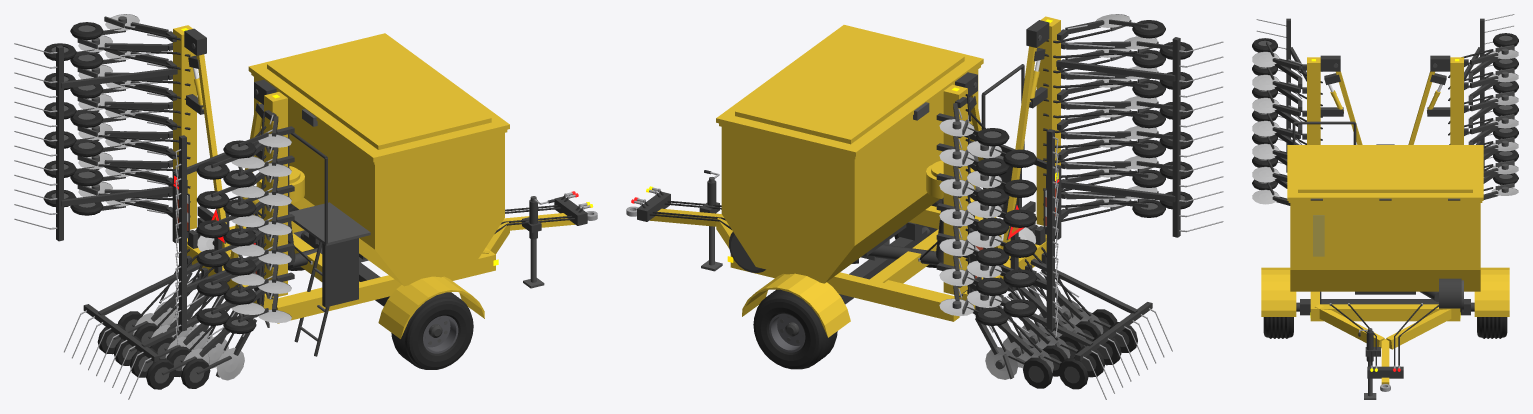
The model's file is seed_drill.glb.
The picture shows the model from 3 angles, left to right: view 1: azimuth 30°, elevation 25°; view 2: azimuth 150°, elevation 25°; view 3: azimuth 270°, elevation 25°; orthographic projection. The views are drawn at different scales.
Parts seen in each view (by area): view 1: frame, wing_left_tilt, wing_right_tilt, hopper_lid_tilt, wheel_right_spin, marker_left_tilt, marker_right_tilt; view 2: frame, wing_right_tilt, wing_left_tilt, hopper_lid_tilt, wheel_left_spin, marker_right_tilt, marker_left_tilt; view 3: frame, hopper_lid_tilt, wing_left_tilt, wing_right_tilt, wheel_right_spin, wheel_left_spin, marker_left_tilt, marker_right_tilt.
Boxes of the visible parts, x1,y1,x2,y2 form: frame: [64, 73, 597, 399]; wing_left_tilt: [14, 14, 213, 241]; wing_right_tilt: [175, 79, 294, 345]; hopper_lid_tilt: [248, 33, 509, 162]; wheel_right_spin: [391, 292, 473, 369]; marker_left_tilt: [188, 43, 230, 257]; marker_right_tilt: [197, 89, 263, 259]; frame: [626, 64, 1172, 399]; wing_right_tilt: [1020, 14, 1223, 237]; wing_left_tilt: [936, 72, 1058, 337]; hopper_lid_tilt: [716, 25, 983, 156]; wheel_left_spin: [753, 289, 837, 369]; marker_right_tilt: [1002, 35, 1045, 249]; marker_left_tilt: [968, 82, 1036, 248]; frame: [1261, 121, 1509, 399]; hopper_lid_tilt: [1287, 144, 1483, 200]; wing_left_tilt: [1427, 14, 1518, 199]; wing_right_tilt: [1252, 18, 1343, 205]; wheel_right_spin: [1263, 317, 1293, 338]; wheel_left_spin: [1477, 317, 1507, 338]; marker_left_tilt: [1408, 63, 1446, 144]; marker_right_tilt: [1324, 63, 1362, 144].
Bounding box in the file's own units: 5.98 × 3.29 × 3.5.
17 materials, 17 textured.
